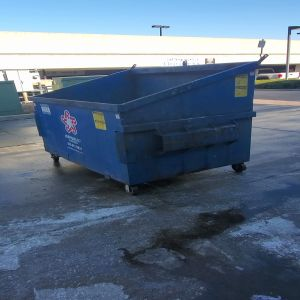Dumpster: (32, 63, 263, 197)
